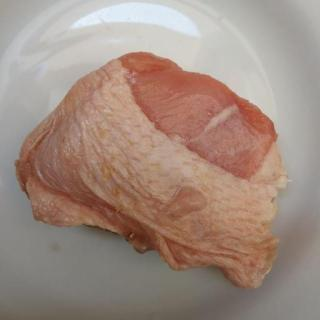Ayam: (15, 52, 293, 290)
